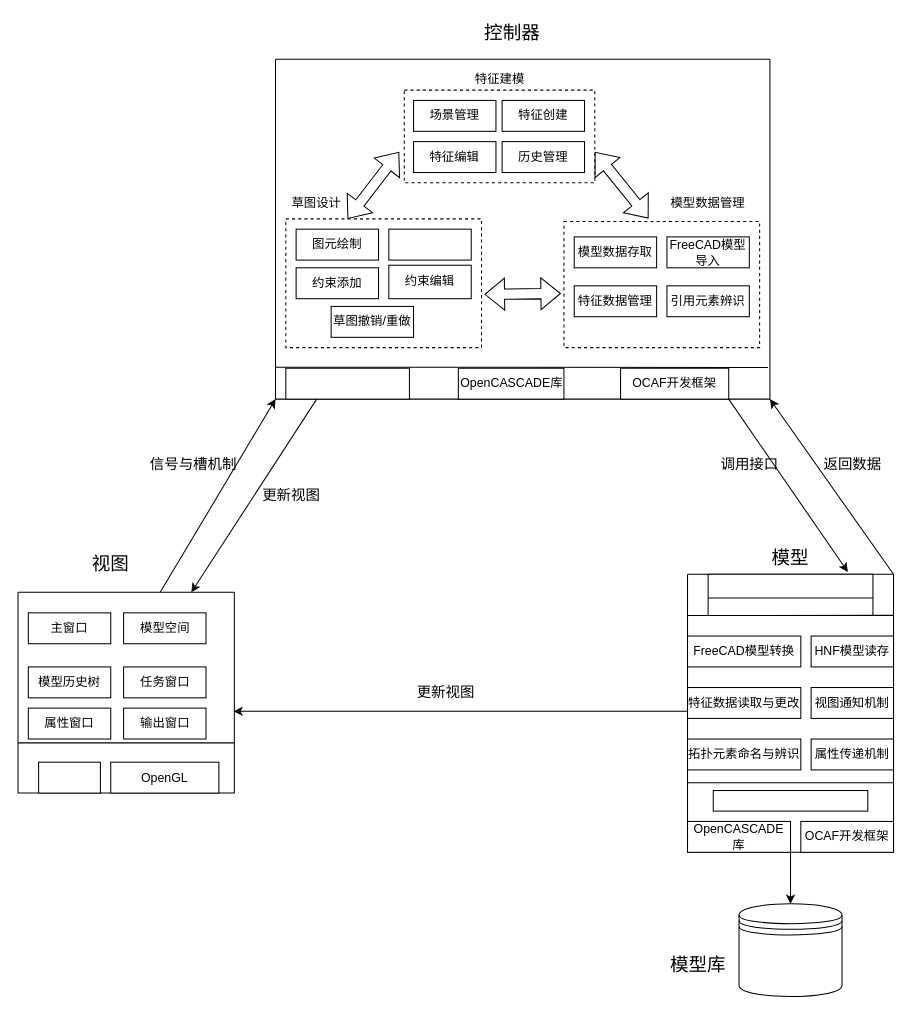
Image size: 920x1015. Some labels were removed from this diagram. Each missing label, with the box of its shape:
FCStd模型文件 HNF模型文件: (738, 903, 842, 997)
PlaneGCS约束求解器: (285, 367, 409, 399)
Qt: (38, 761, 100, 793)
图元编辑: (388, 228, 471, 260)
拓扑元素命名与辨识算法库: (712, 789, 868, 811)
特征对象容器: (707, 573, 873, 615)
